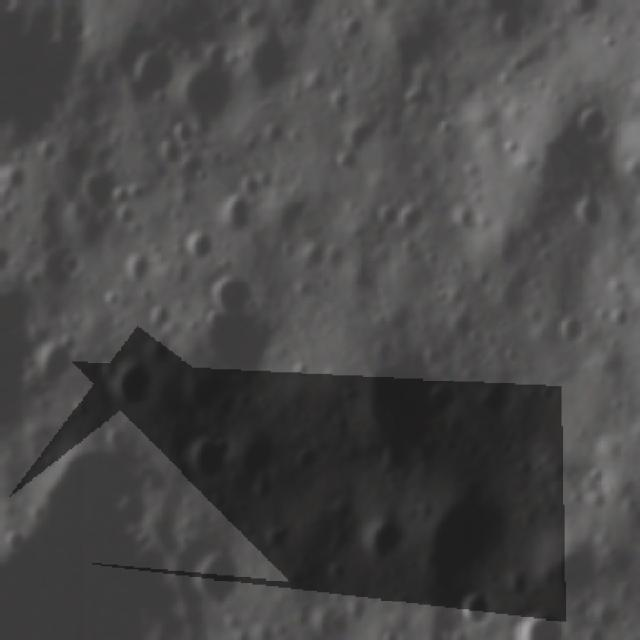crater: (199, 275, 255, 331), (510, 603, 572, 640), (115, 353, 152, 402), (185, 436, 229, 473), (79, 172, 127, 203), (365, 516, 397, 562), (168, 110, 205, 144), (458, 594, 493, 629), (568, 195, 610, 222), (218, 190, 255, 218), (558, 312, 590, 341), (188, 225, 215, 253)
